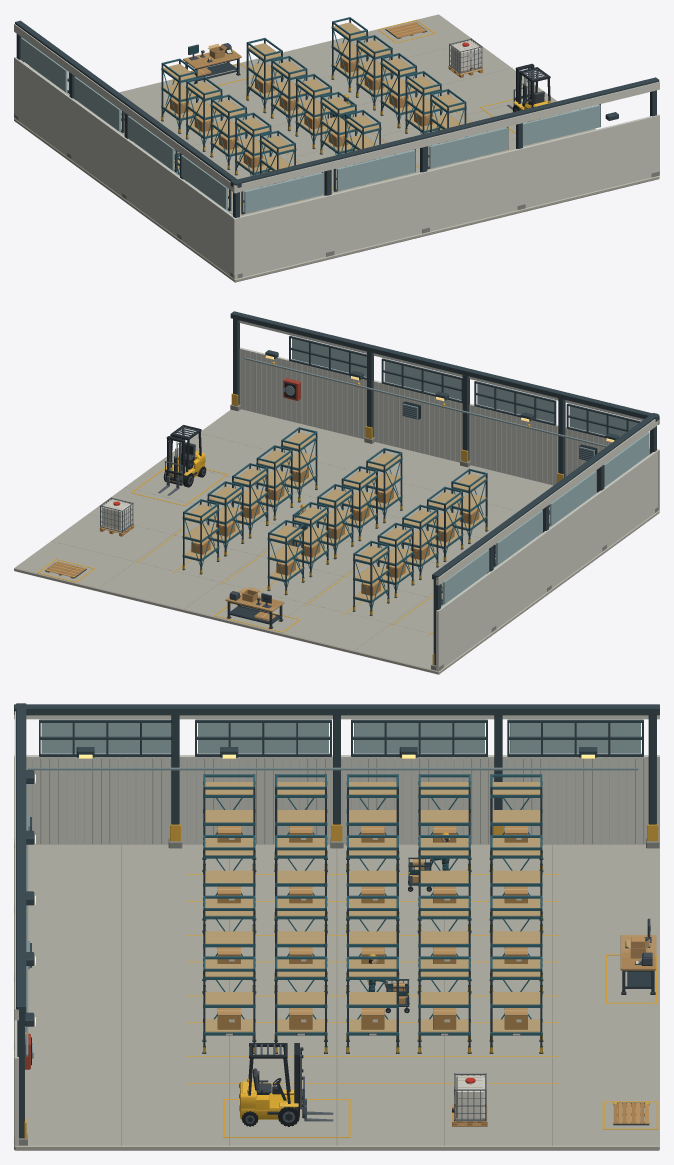
Rendered from warehouse.glb.
3 views of the same model, one above another, from view 1: azimuth 30°, elevation 25°; view 2: azimuth 150°, elevation 25°; view 3: azimuth 270°, elevation 25° (orthographic). The views are drawn at different scales.
Visible parts, largest first — view 1: environment_root__ENV::environment__material_01, environment_root__ENV::environment__material_08, environment_root__ENV::environment__material_04, environment_root__ENV::environment__material_02, forklift__STATIC::forklift__material_00, ibc_tote__STATIC::ibc-tote__material_04, rackbay__A4_B1::rack-bay__material_03, rackbay__A3_B3::rack-bay__material_04, rackbay__A3_B1::rack-bay__material_04, rackbay__A4_B1::rack-bay__material_04, rackbay__A2_B3::rack-bay__material_03, rackbay__A2_B1::rack-bay__material_04 (+29 smaller); view 2: environment_root__ENV::environment__material_08, environment_root__ENV::environment__material_01, environment_root__ENV::environment__material_02, environment_root__ENV::environment__material_04, environment_root__ENV::environment__material_10, environment_root__ENV::environment__material_03, environment_root__ENV::environment__material_00, environment_root__ENV::environment__material_05, forklift__STATIC::forklift__material_00, rackbay__A4_B1::rack-bay__material_03, rackbay__A3_B1::rack-bay__material_03, rackbay__A2_B1::rack-bay__material_03 (+31 smaller); view 3: environment_root__ENV::environment__material_08, environment_root__ENV::environment__material_01, environment_root__ENV::environment__material_02, environment_root__ENV::environment__material_04, environment_root__ENV::environment__material_10, environment_root__ENV::environment__material_00, environment_root__ENV::environment__material_03, environment_root__ENV::environment__material_05, forklift__STATIC::forklift__material_00, rackbay__A4_B1::rack-bay__material_04, rackbay__A4_B2::rack-bay__material_04, rackbay__A4_B5::rack-bay__material_04 (+42 smaller).
Part boxes in pixels (bbox=[...]): environment_root__ENV::environment__material_01: bbox=[14, 24, 659, 279]; environment_root__ENV::environment__material_08: bbox=[14, 14, 659, 282]; environment_root__ENV::environment__material_04: bbox=[21, 37, 600, 213]; environment_root__ENV::environment__material_02: bbox=[15, 20, 659, 217]; forklift__STATIC::forklift__material_00: bbox=[514, 63, 550, 121]; ibc_tote__STATIC::ibc-tote__material_04: bbox=[451, 40, 480, 71]; rackbay__A4_B1::rack-bay__material_03: bbox=[331, 17, 368, 85]; rackbay__A3_B3::rack-bay__material_04: bbox=[297, 79, 330, 133]; rackbay__A3_B1::rack-bay__material_04: bbox=[248, 43, 281, 97]; rackbay__A4_B1::rack-bay__material_04: bbox=[333, 22, 366, 76]; rackbay__A2_B3::rack-bay__material_03: bbox=[210, 95, 247, 162]; rackbay__A2_B1::rack-bay__material_04: bbox=[163, 64, 196, 118]; environment_root__ENV::environment__material_08: bbox=[14, 409, 659, 674]; environment_root__ENV::environment__material_01: bbox=[239, 320, 659, 671]; environment_root__ENV::environment__material_02: bbox=[230, 311, 659, 665]; environment_root__ENV::environment__material_04: bbox=[292, 338, 649, 603]; environment_root__ENV::environment__material_10: bbox=[240, 349, 649, 484]; environment_root__ENV::environment__material_03: bbox=[244, 357, 646, 606]; environment_root__ENV::environment__material_00: bbox=[37, 362, 563, 665]; environment_root__ENV::environment__material_05: bbox=[51, 404, 658, 670]; forklift__STATIC::forklift__material_00: bbox=[165, 425, 204, 485]; rackbay__A4_B1::rack-bay__material_03: bbox=[182, 499, 219, 566]; rackbay__A3_B1::rack-bay__material_03: bbox=[267, 520, 304, 587]; rackbay__A2_B1::rack-bay__material_03: bbox=[353, 540, 389, 607]; environment_root__ENV::environment__material_08: bbox=[14, 844, 659, 1150]; environment_root__ENV::environment__material_01: bbox=[14, 711, 659, 1145]; environment_root__ENV::environment__material_02: bbox=[14, 703, 659, 1138]; environment_root__ENV::environment__material_04: bbox=[41, 723, 640, 753]; environment_root__ENV::environment__material_10: bbox=[32, 757, 644, 844]; environment_root__ENV::environment__material_00: bbox=[24, 790, 658, 1138]; environment_root__ENV::environment__material_03: bbox=[26, 767, 638, 1058]; environment_root__ENV::environment__material_05: bbox=[14, 838, 659, 1145]; forklift__STATIC::forklift__material_00: bbox=[239, 1043, 304, 1122]; rackbay__A4_B1::rack-bay__material_04: bbox=[492, 964, 540, 1032]; rackbay__A4_B2::rack-bay__material_04: bbox=[420, 964, 468, 1032]; rackbay__A4_B5::rack-bay__material_04: bbox=[205, 964, 253, 1032].
Size of the model in its own units: 20 by 4.45 by 18.
